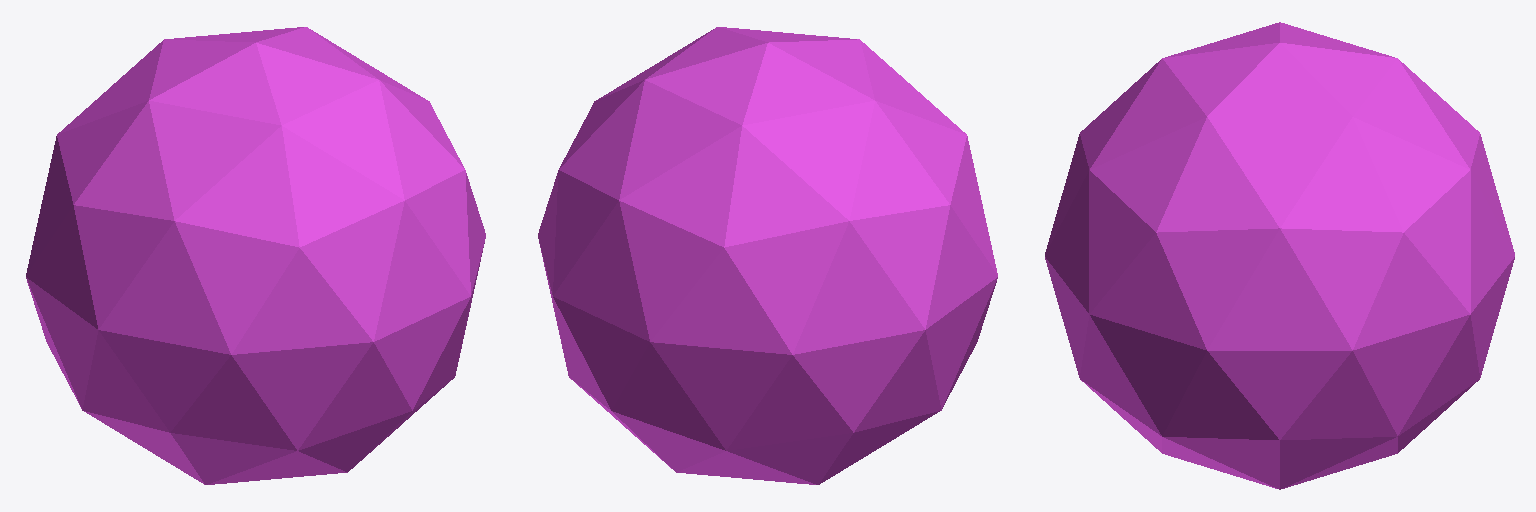
3 views of the same model, side by side, from view 1: azimuth 30°, elevation 25°; view 2: azimuth 150°, elevation 25°; view 3: azimuth 270°, elevation 25° (orthographic).
Parts seen in each view (by area): view 1: ICO球; view 2: ICO球; view 3: ICO球.
Boxes of the visible parts, x1,y1,x2,y2 form: ICO球: [26, 27, 485, 484]; ICO球: [538, 27, 997, 484]; ICO球: [1045, 22, 1514, 489].
Bounding box in the file's own units: 1.9 × 2 × 2.
Materials: 1 (1 with a texture image).